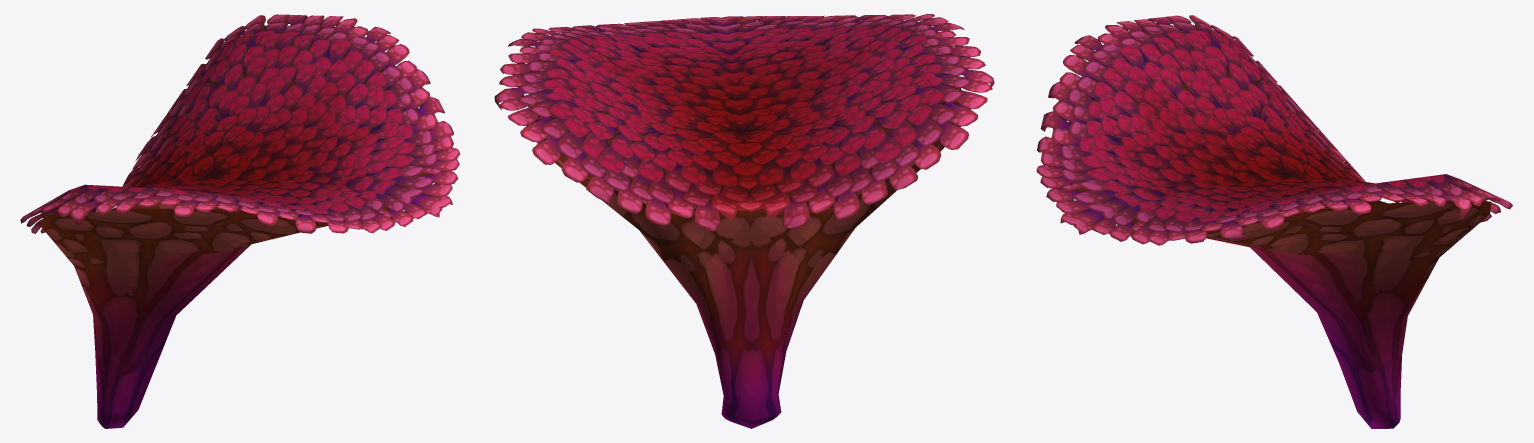
File: Coral_23.FBX
3 renders of one model, left to right at view 1: azimuth 30°, elevation 25°; view 2: azimuth 150°, elevation 25°; view 3: azimuth 270°, elevation 25°, orthographic. The views are drawn at different scales.
Parts seen in each view (by area): view 1: Coral_23; view 2: Coral_23; view 3: Coral_23.
Boxes of the visible parts, box(x1,y1,x2,y2) form: Coral_23: box(20, 14, 460, 428); Coral_23: box(494, 14, 994, 428); Coral_23: box(1036, 15, 1512, 428).
Size of the model in its own units: 59.74 by 43.9 by 55.19.
